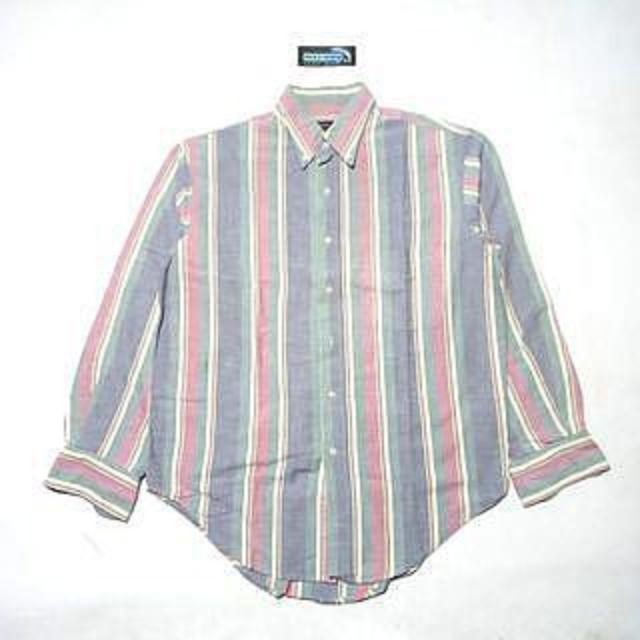SHIRT: (25, 76, 640, 617)
